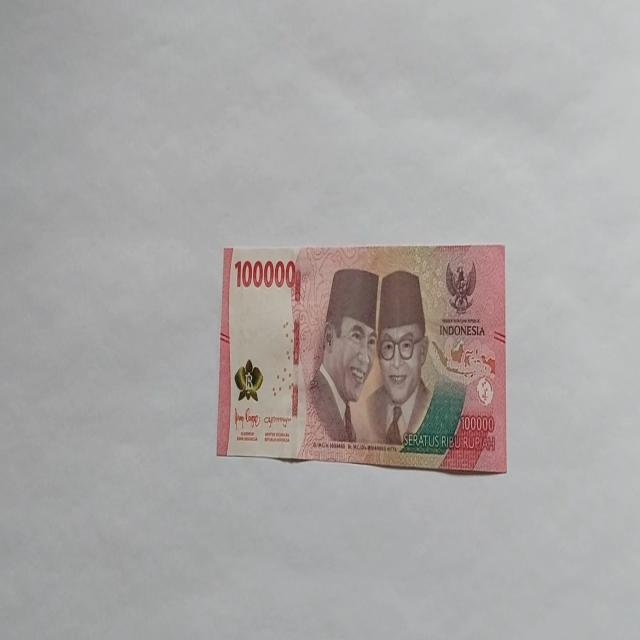seratus ribu rupiah: (216, 242, 507, 473)
